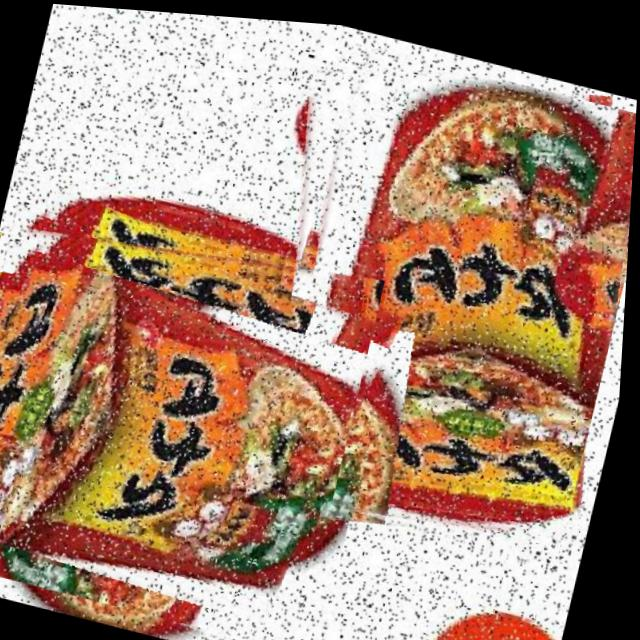Miscellaneous: (230, 26, 640, 565), (0, 183, 389, 640)
